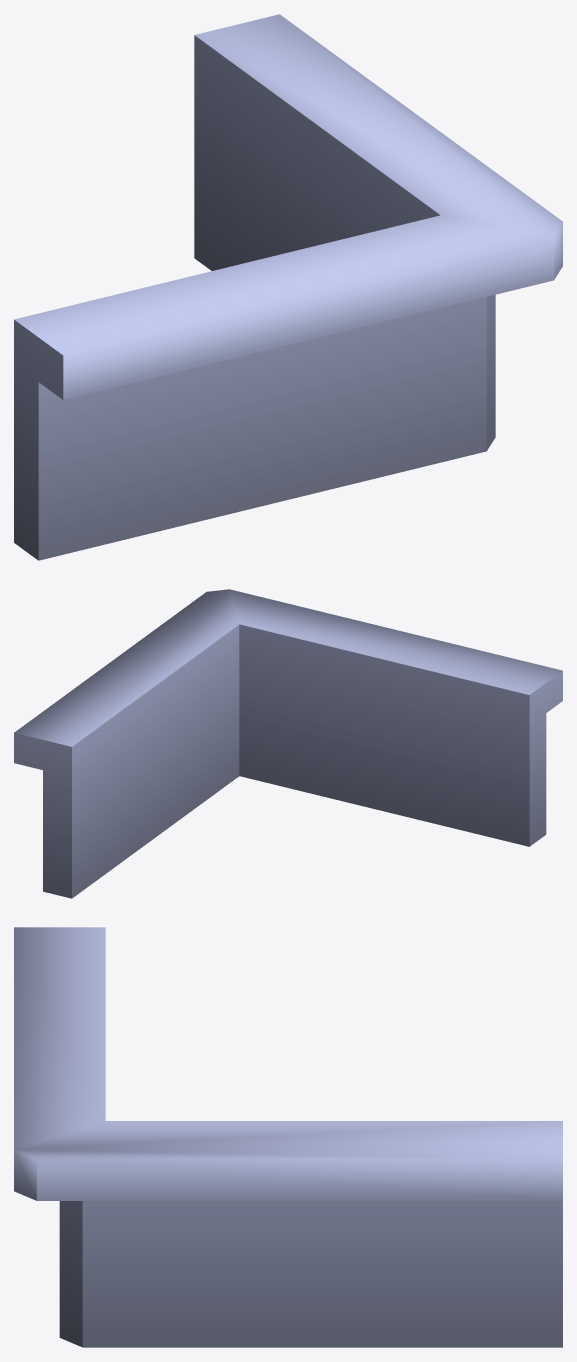
Rendered from building_border_high_corner_s.glb.
3 views of the same model, one above another, from view 1: azimuth 30°, elevation 25°; view 2: azimuth 150°, elevation 25°; view 3: azimuth 270°, elevation 25° (orthographic). The views are drawn at different scales.
Visible parts, largest first — view 1: border-high-corner-small; view 2: border-high-corner-small; view 3: border-high-corner-small.
Boxes of the visible parts, box(x1,y1,x2,y2) form: border-high-corner-small: box(14, 14, 562, 560); border-high-corner-small: box(14, 589, 562, 898); border-high-corner-small: box(14, 927, 562, 1347).
Bounding box in the file's own units: 1.2 × 0.5 × 1.2.
Materials: 1 (1 with a texture image).
